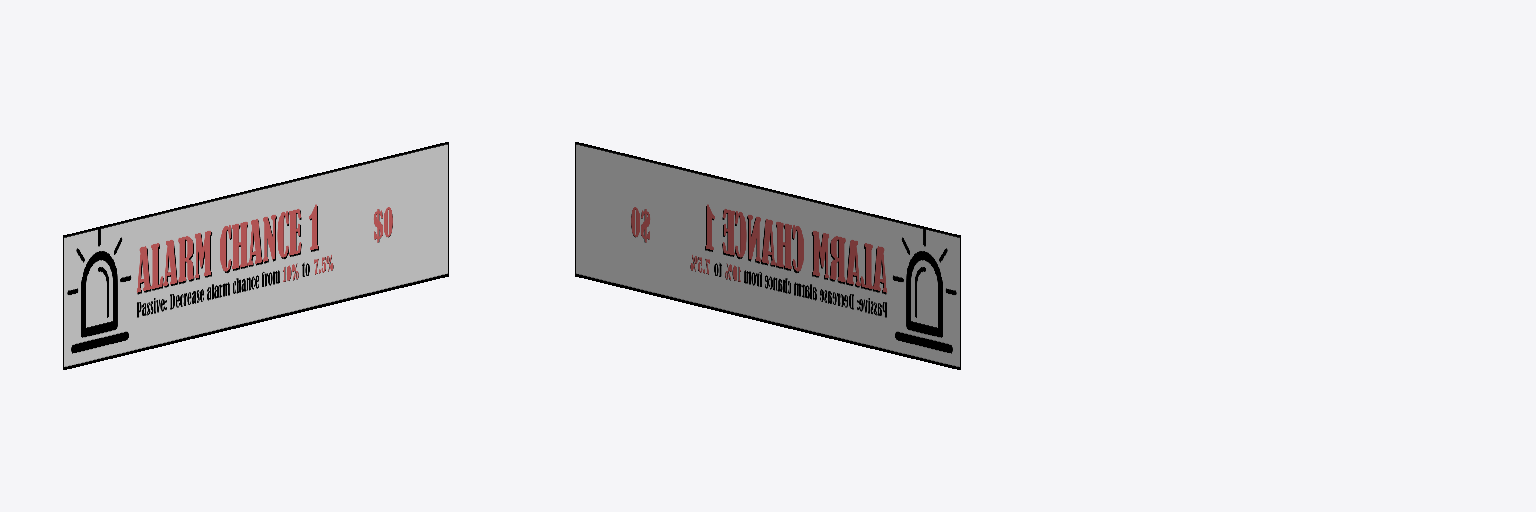
3 views of the same model, side by side, from view 1: azimuth 30°, elevation 25°; view 2: azimuth 150°, elevation 25°; view 3: azimuth 270°, elevation 25° (orthographic).
Parts seen in each view (by area): view 1: Plane.003; view 2: Plane.003; view 3: none.
Part boxes in pixels (x1,y1,x2,y2): Plane.003: (63,142,448,369); Plane.003: (575,142,960,369).
Size of the model in its own units: 0.9 by 0.3 by 0.
1 materials, 1 textured.